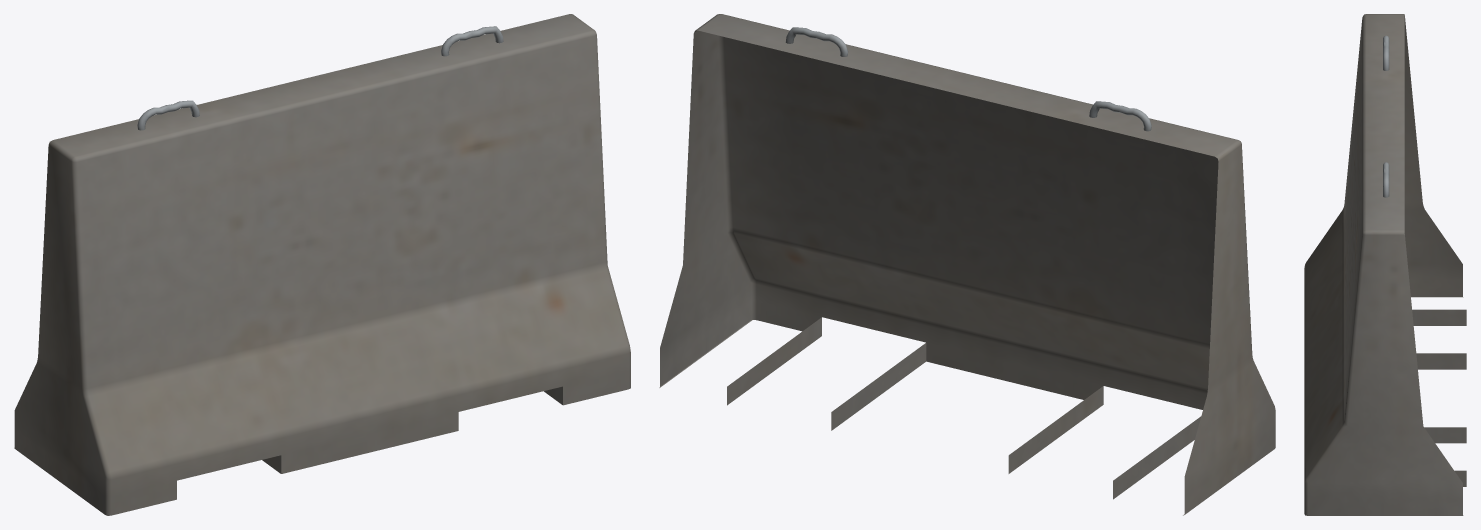
Rendered from jump_barrier.glb.
The picture shows the model from 3 angles, left to right: view 1: azimuth 30°, elevation 25°; view 2: azimuth 150°, elevation 25°; view 3: azimuth 270°, elevation 25°; orthographic projection. The views are drawn at different scales.
Parts seen in each view (by area): view 1: wall1; view 2: wall1; view 3: wall1.
Boxes of the visible parts, left/top/right/bottom form: wall1: left=14, top=14, right=630, bottom=515; wall1: left=659, top=14, right=1275, bottom=515; wall1: left=1304, top=14, right=1466, bottom=515.
Size of the model in its own units: 1.39 by 0.8853 by 0.434.
1 material, 1 textured.
